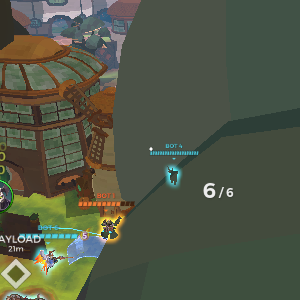model: (98, 215, 123, 243)
